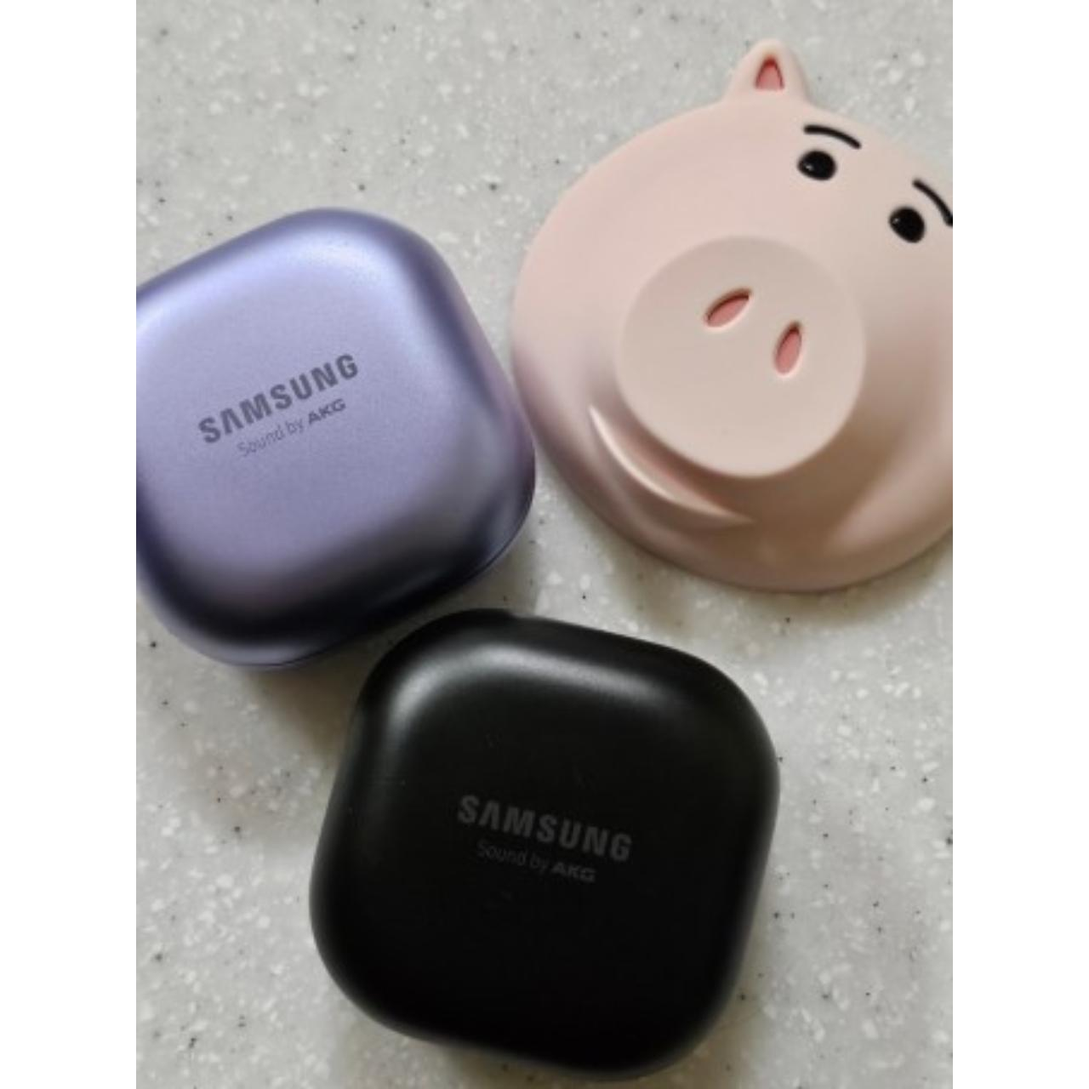Buds: (309, 611, 784, 1085), (137, 205, 549, 675)
